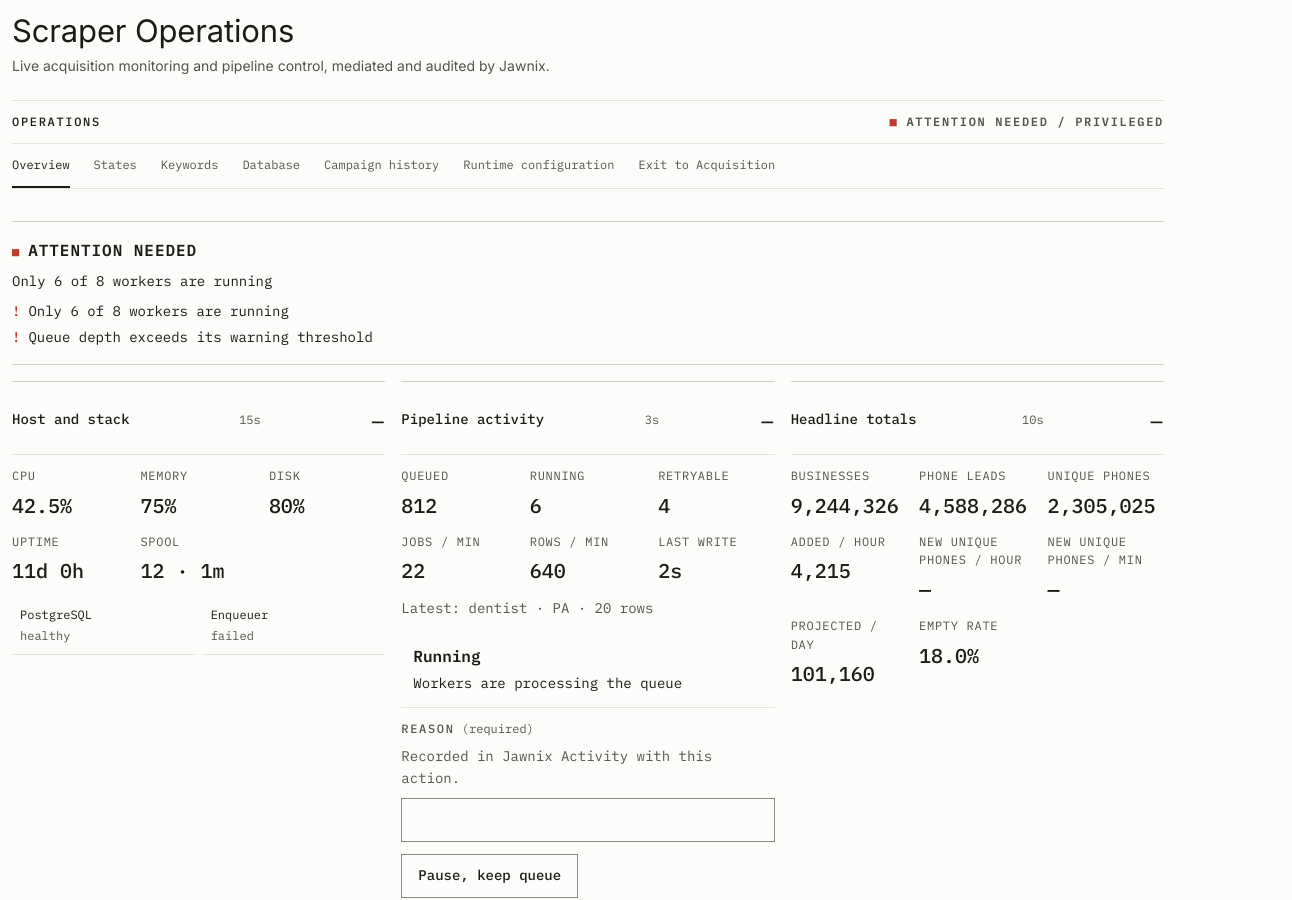
Test: pipeline controls › requires a reason before any pipeline change
This screenshot has width=1292, height=900.
Click the button "Pause, keep queue" at (490, 876), box [401,854,578,898]
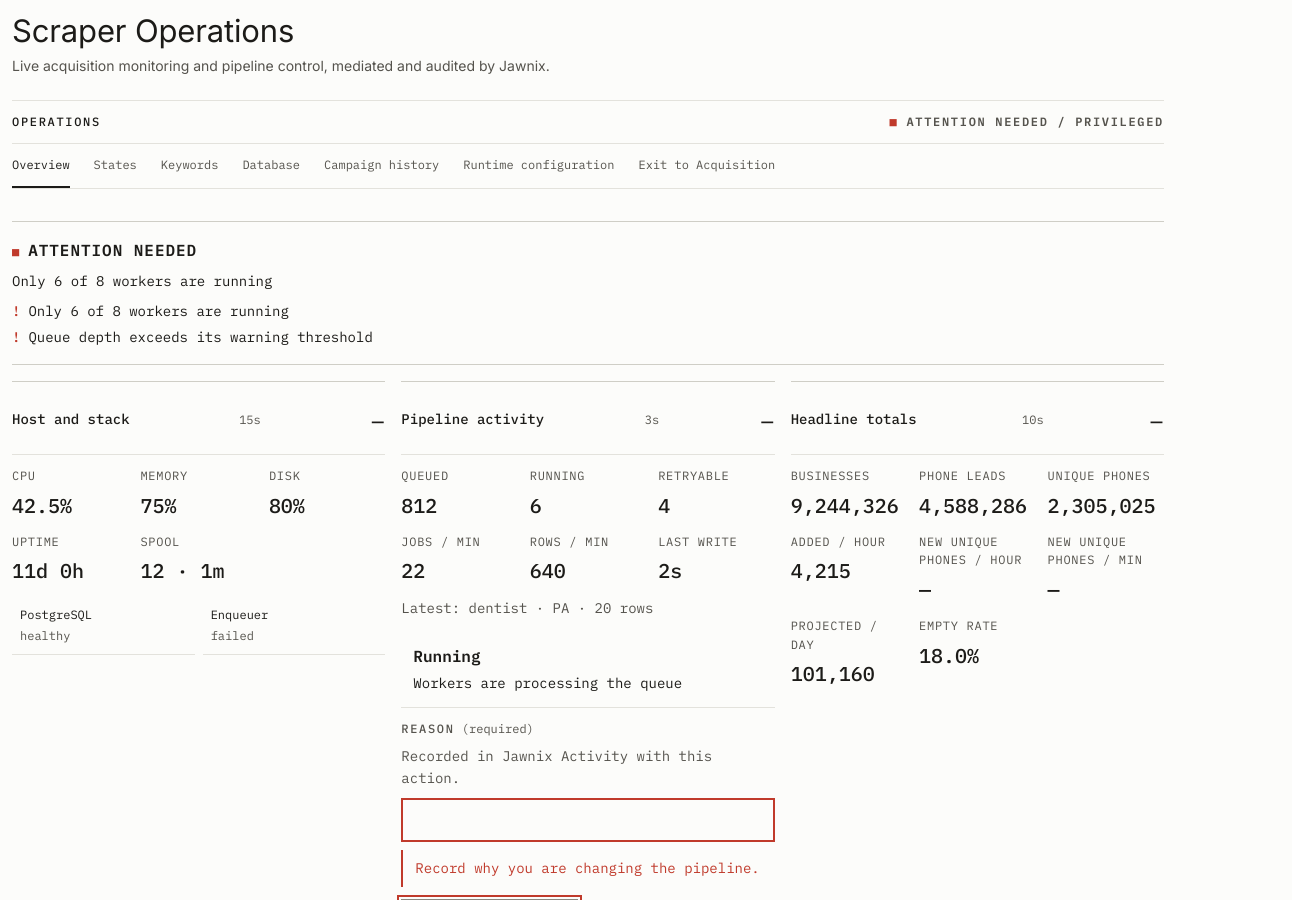
Expected: the message reads "Record why you are changing the pipeline.", [415,859,760,877]
